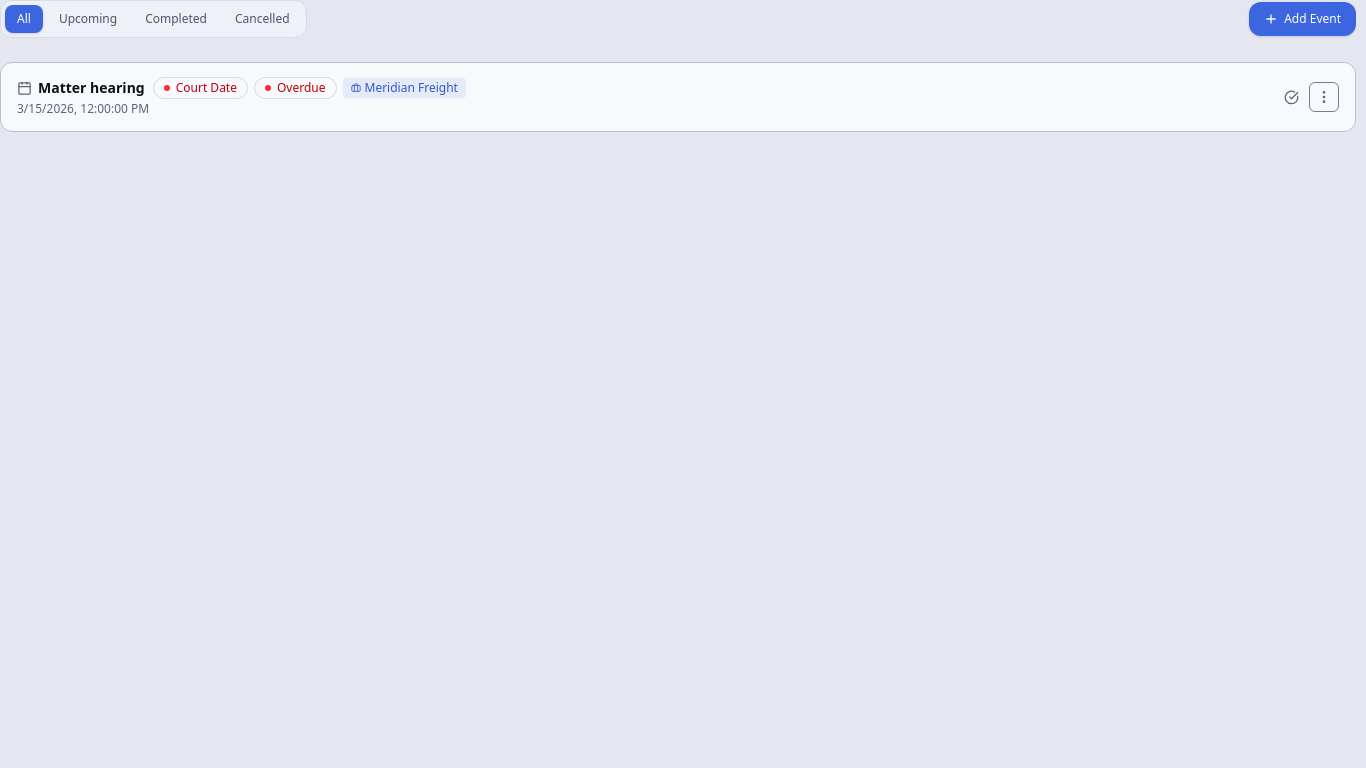
Test: editing a matter event › offers only the matter's members as assignees
Check: the text "Matter hearing" is shown, box [38,78,145,98]
Click the button named "More actions" at (1324, 97), box [1309,82,1339,112]
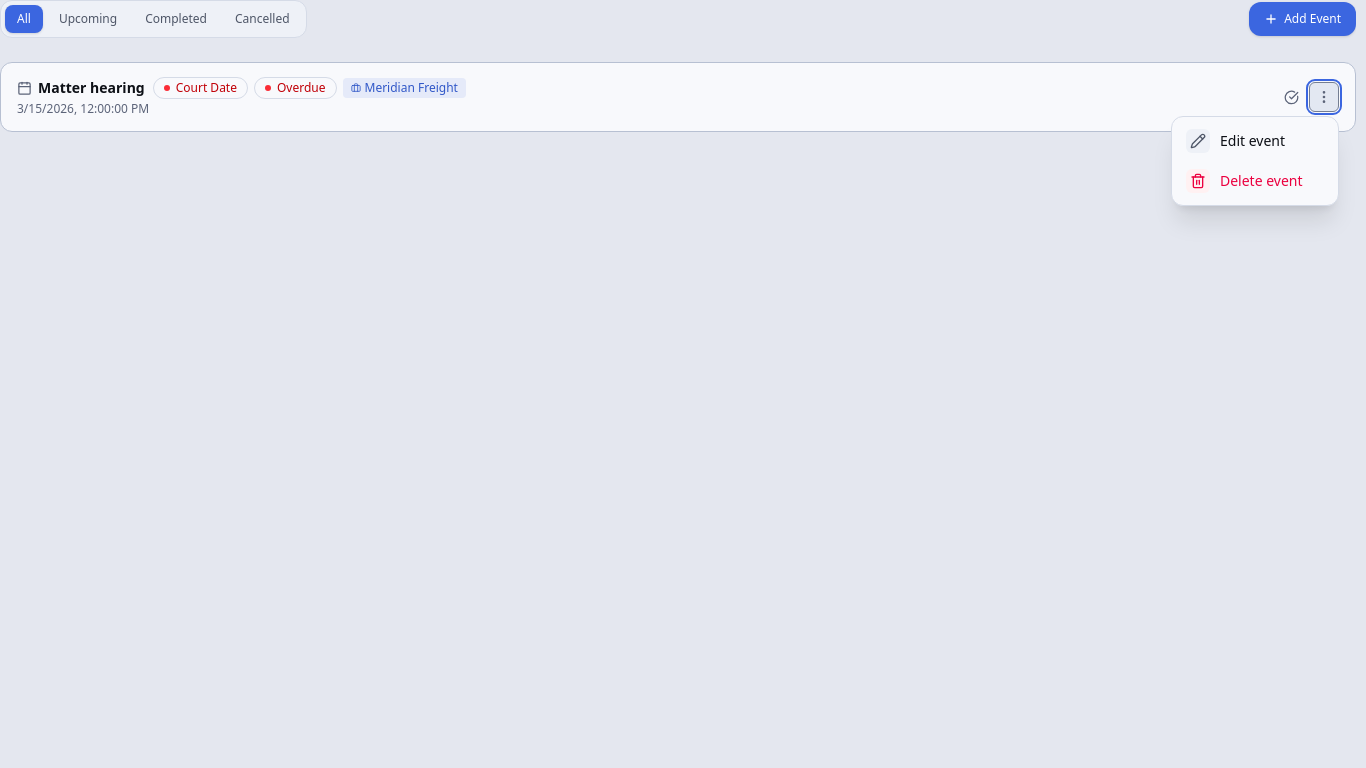
Click the menu item "Edit event" at (1255, 141), box [1176,121,1334,161]
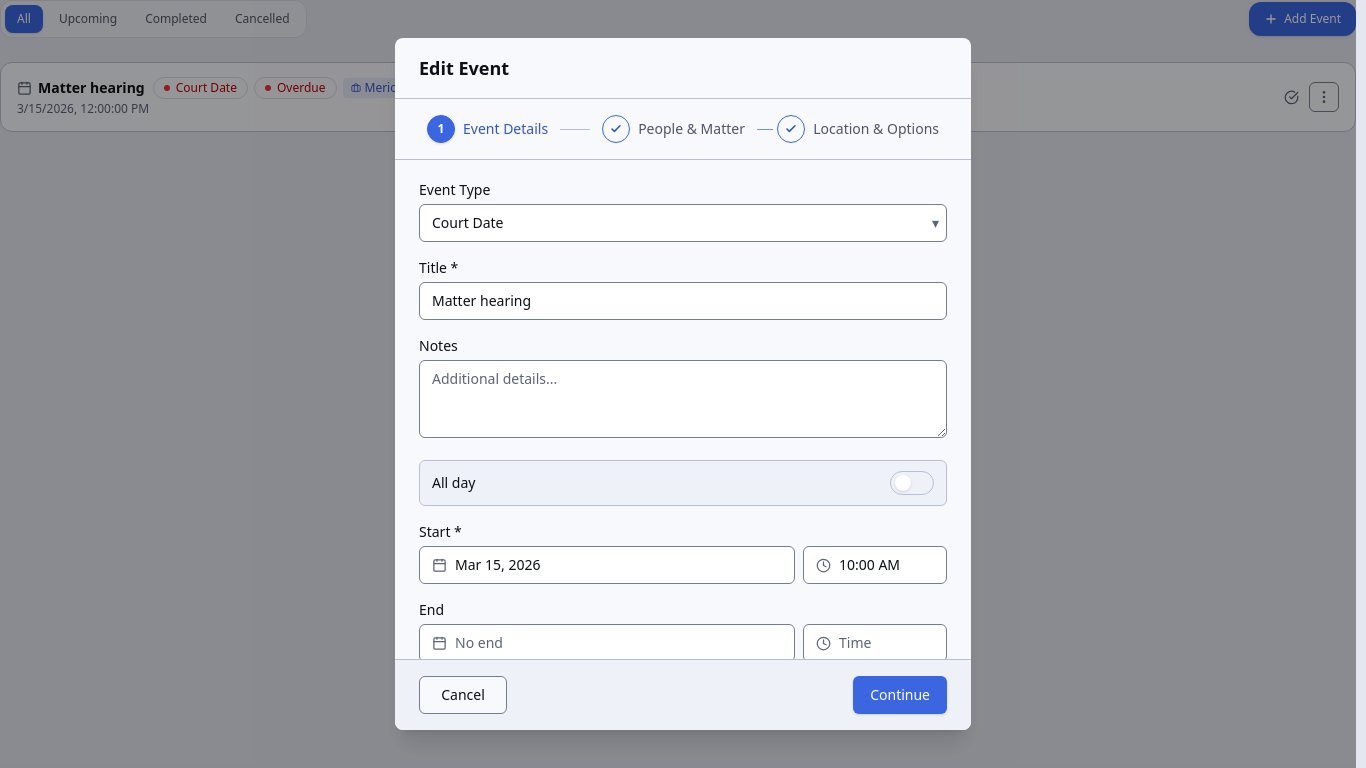
Click the button "Continue" at (900, 695), box [853,676,947,714]
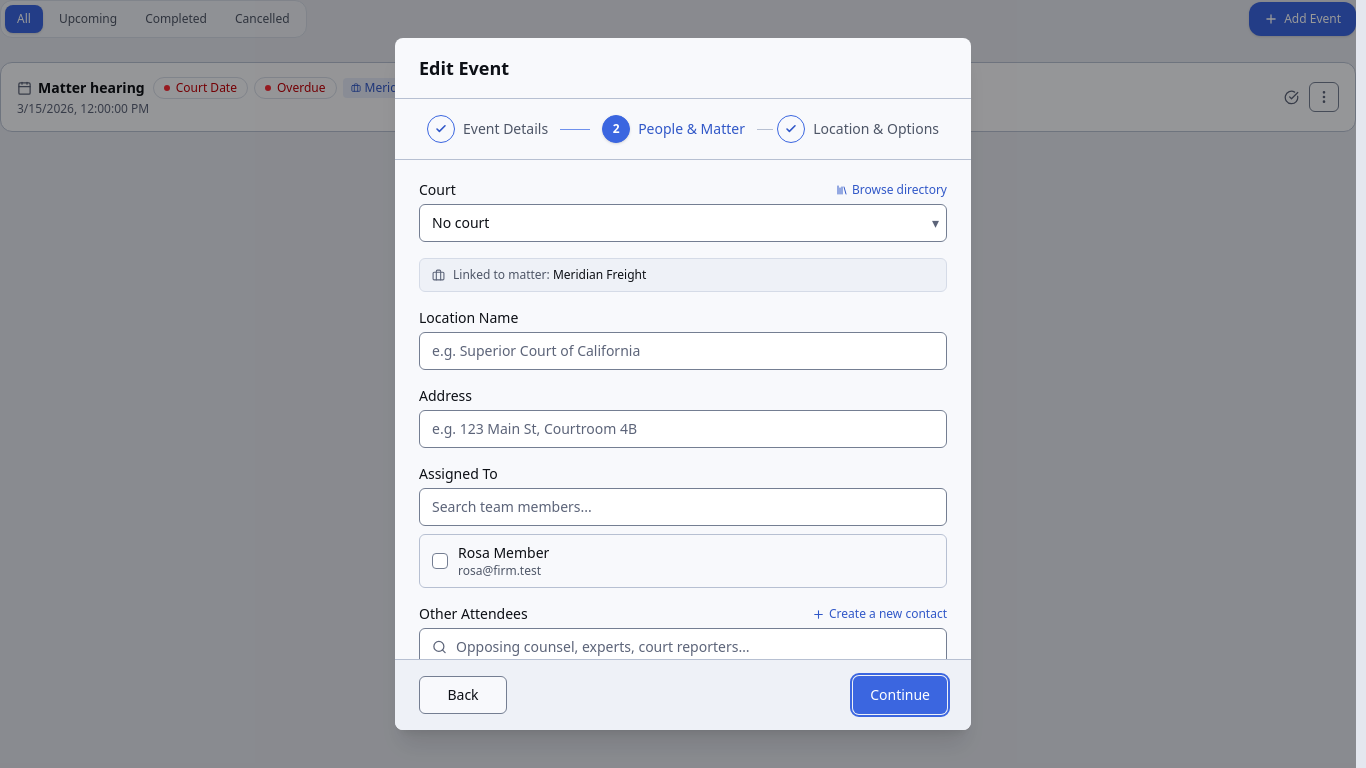
Check: the text "Rosa Member" is shown, box [458,543,549,563]
